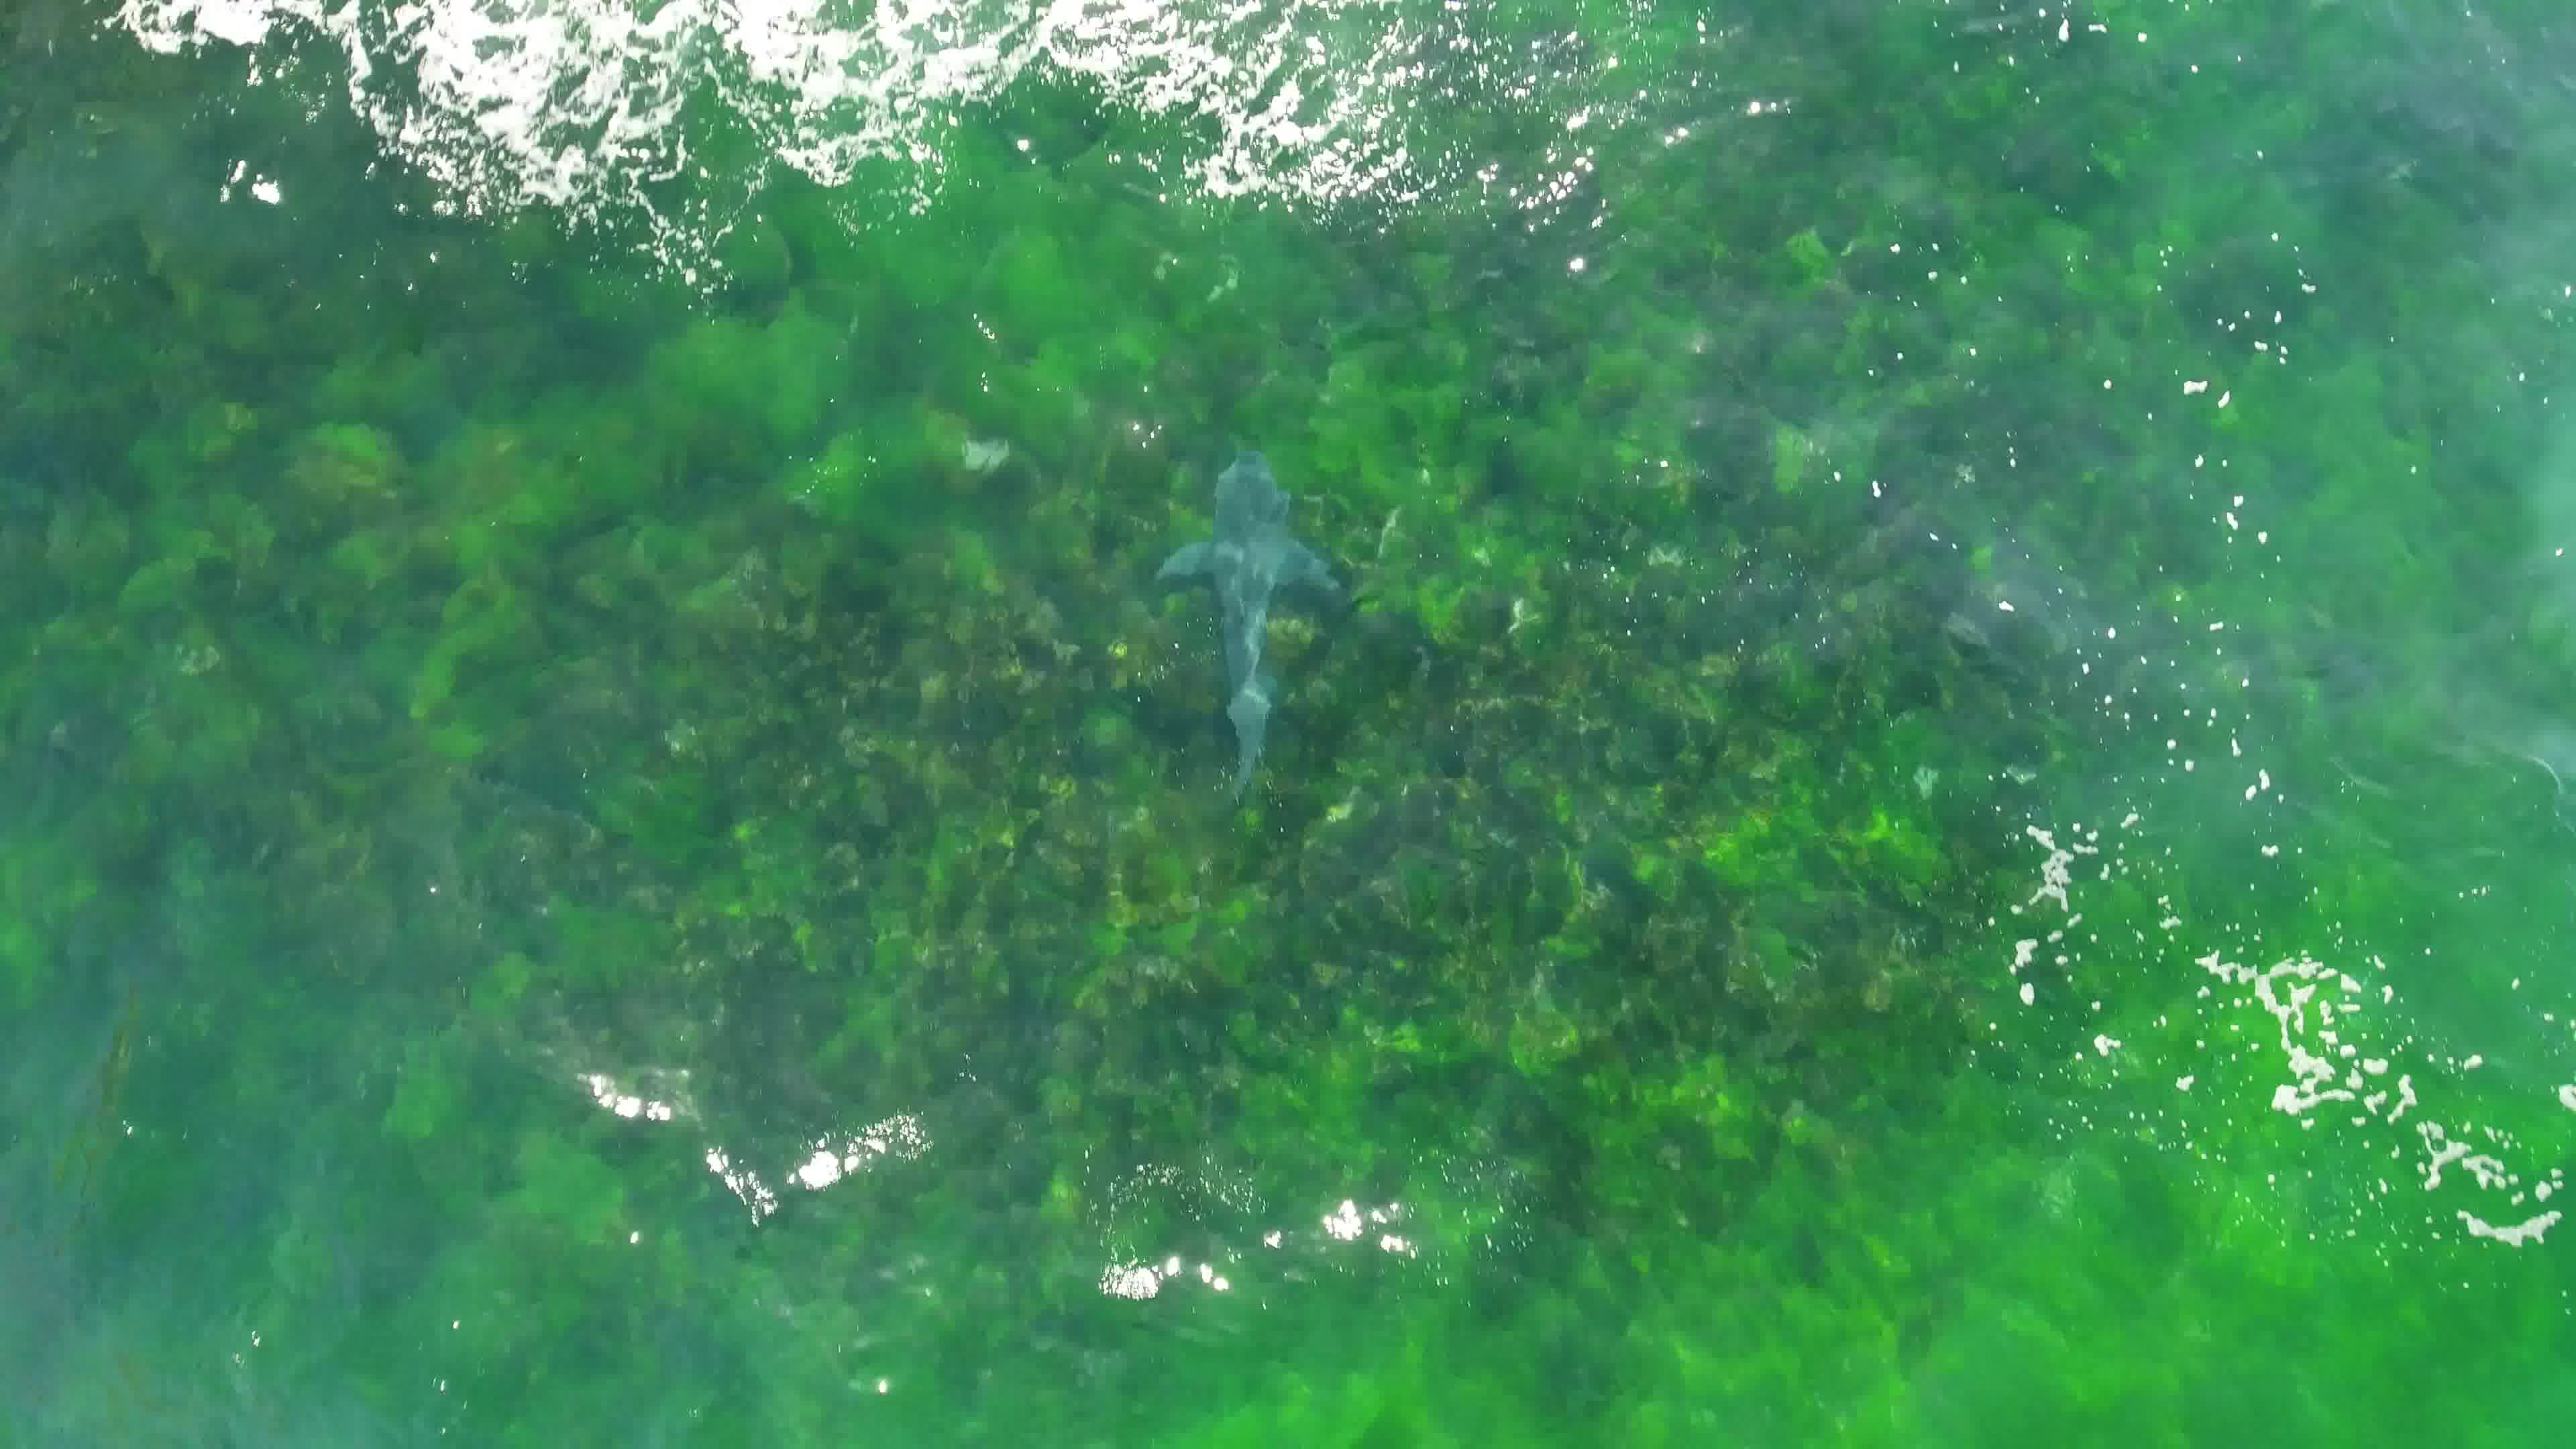shark: (1146, 448, 1350, 798)
